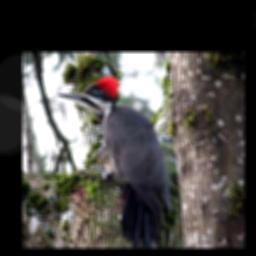Woodpecker: (56, 74, 178, 243)
